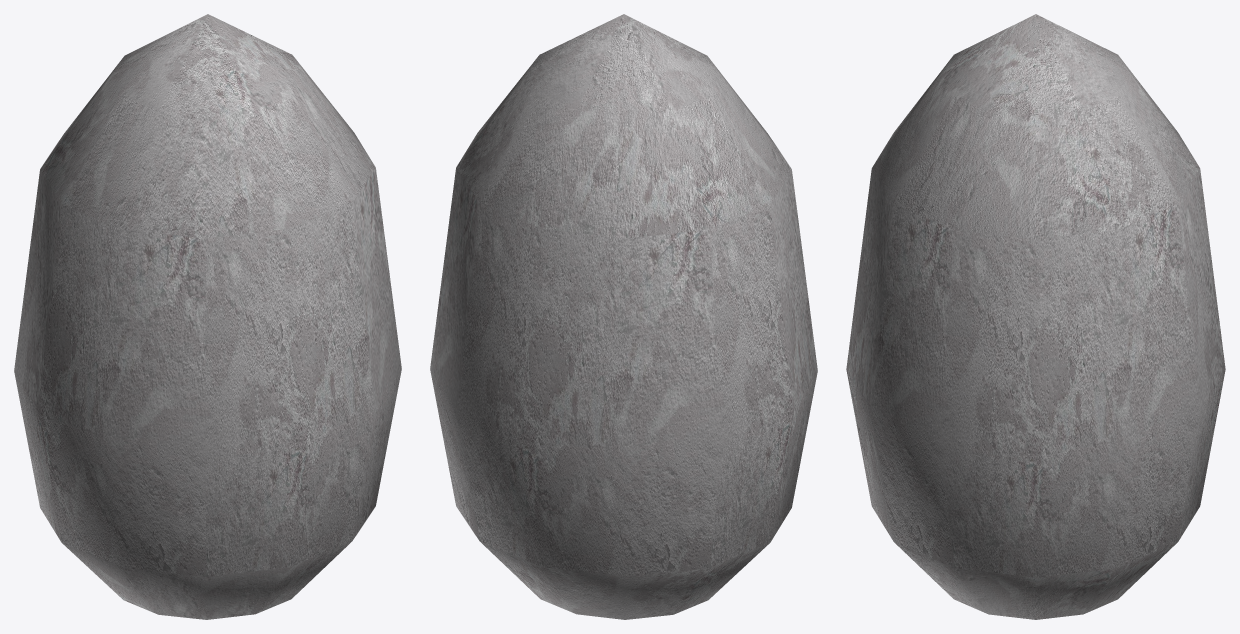
Rendered from Dino_Egg_03.DAE.
3 views of the same model, side by side, from view 1: azimuth 30°, elevation 25°; view 2: azimuth 150°, elevation 25°; view 3: azimuth 270°, elevation 25° (orthographic).
Visible parts, largest first — view 1: DinoEggThree300; view 2: DinoEggThree300; view 3: DinoEggThree300.
Boxes of the visible parts, <box> form: DinoEggThree300: <box>14,14,401,619</box>; DinoEggThree300: <box>430,14,817,619</box>; DinoEggThree300: <box>846,14,1225,619</box>.
Size of what is drawn, in the model's own units: 0.2669 by 0.2597 by 0.4511.
